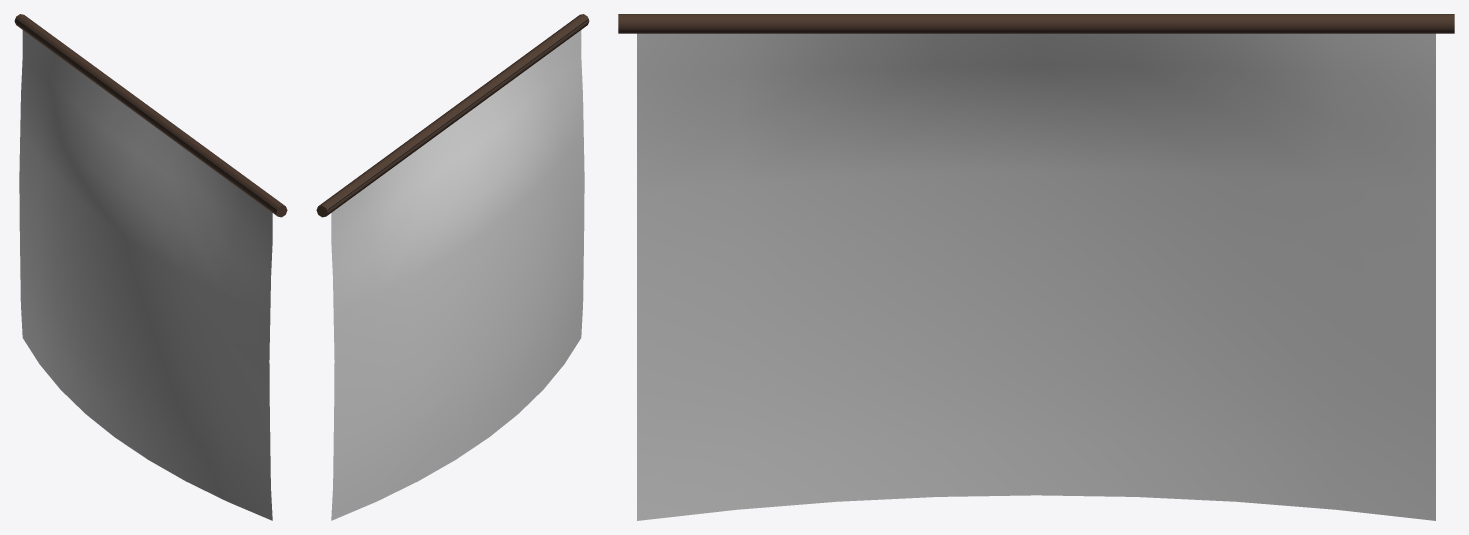
The model's file is Sails.fbx.
3 views of the same model, side by side, from view 1: azimuth 30°, elevation 25°; view 2: azimuth 150°, elevation 25°; view 3: azimuth 270°, elevation 25° (orthographic). The views are drawn at different scales.
Visible parts, largest first — view 1: Sails; view 2: Sails; view 3: Sails.
Boxes of the visible parts, x1,y1,x2,y2 form: Sails: (14, 14, 287, 520); Sails: (316, 14, 589, 520); Sails: (618, 14, 1454, 520).
Bounding box in the file's own units: 217 × 1496 × 2225.
